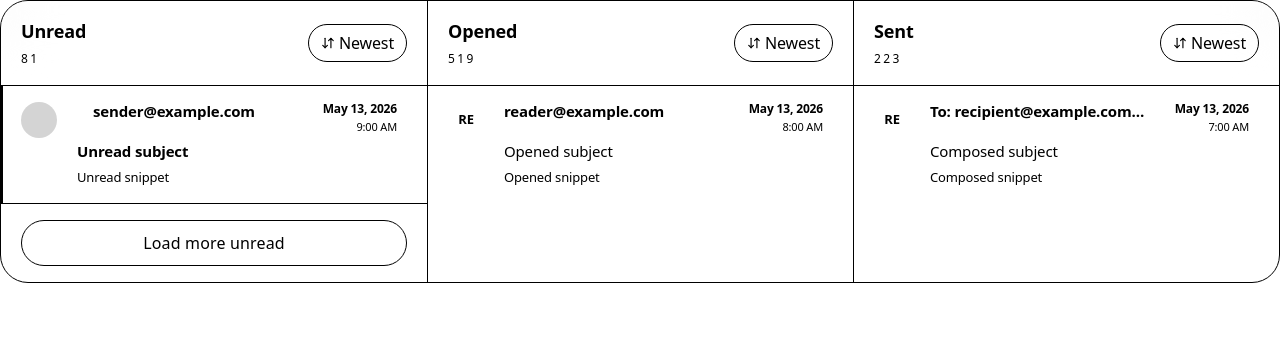
Test: MailColumnsBoard › loads more messages for one section without duplicating existing rows
The image size is (1280, 338).
Click the button "Load more unread". click: (214, 243)
box: top-left (21, 220), bottom-right (407, 266)
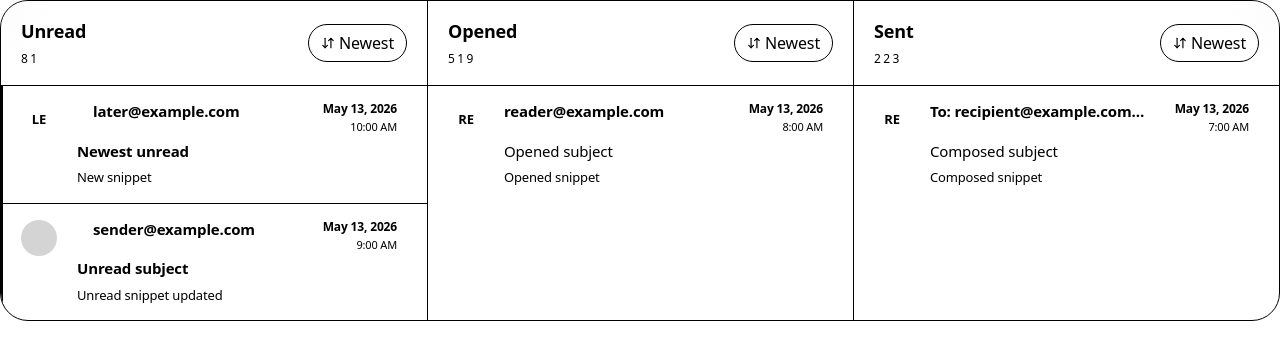
Expected: the text "Newest unread" is shown, top-left (77, 141), bottom-right (189, 161)
Expected: the text "Newest unread" is shown 2 times, top-left (77, 141), bottom-right (189, 161); top-left (77, 258), bottom-right (188, 278)
Expected: the button "Load more unread" is gone
